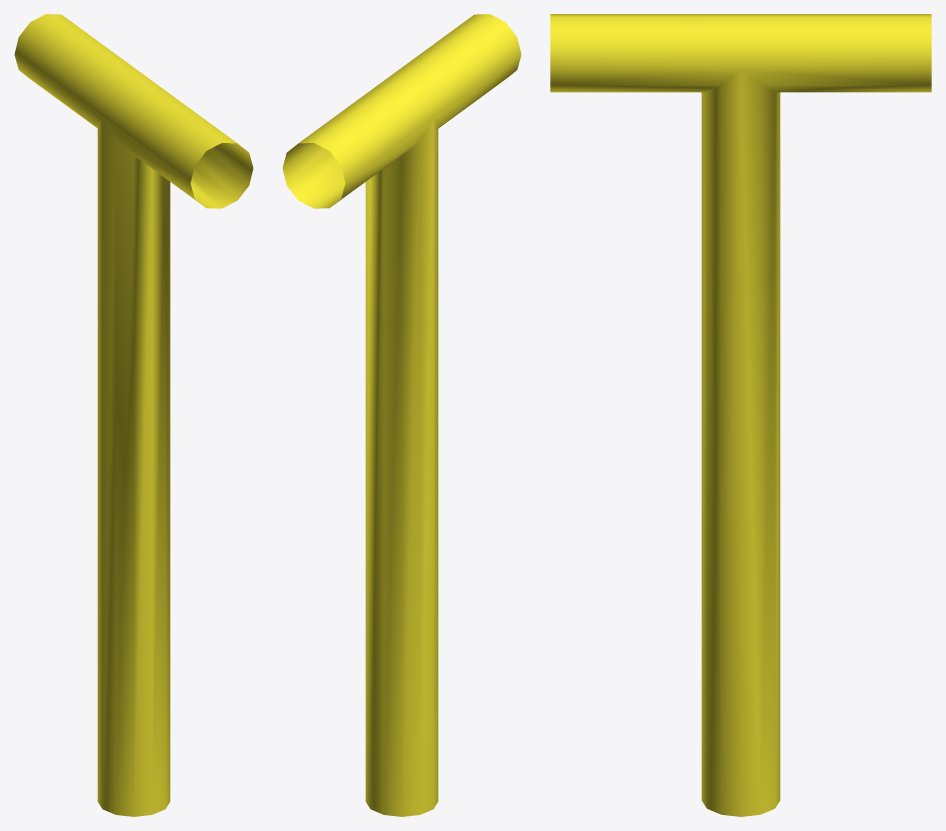
File: FenceLacznik.fbx
The picture shows the model from 3 angles, left to right: view 1: azimuth 30°, elevation 25°; view 2: azimuth 150°, elevation 25°; view 3: azimuth 270°, elevation 25°; orthographic projection. The views are drawn at different scales.
Visible parts, largest first — view 1: FenceLacznik; view 2: FenceLacznik; view 3: FenceLacznik.
Part boxes in pixels (<box>): FenceLacznik: <box>14,14,253,816</box>; FenceLacznik: <box>282,14,521,816</box>; FenceLacznik: <box>550,14,931,816</box>.
Bounding box in the file's own units: 26.63 × 292 × 129.
